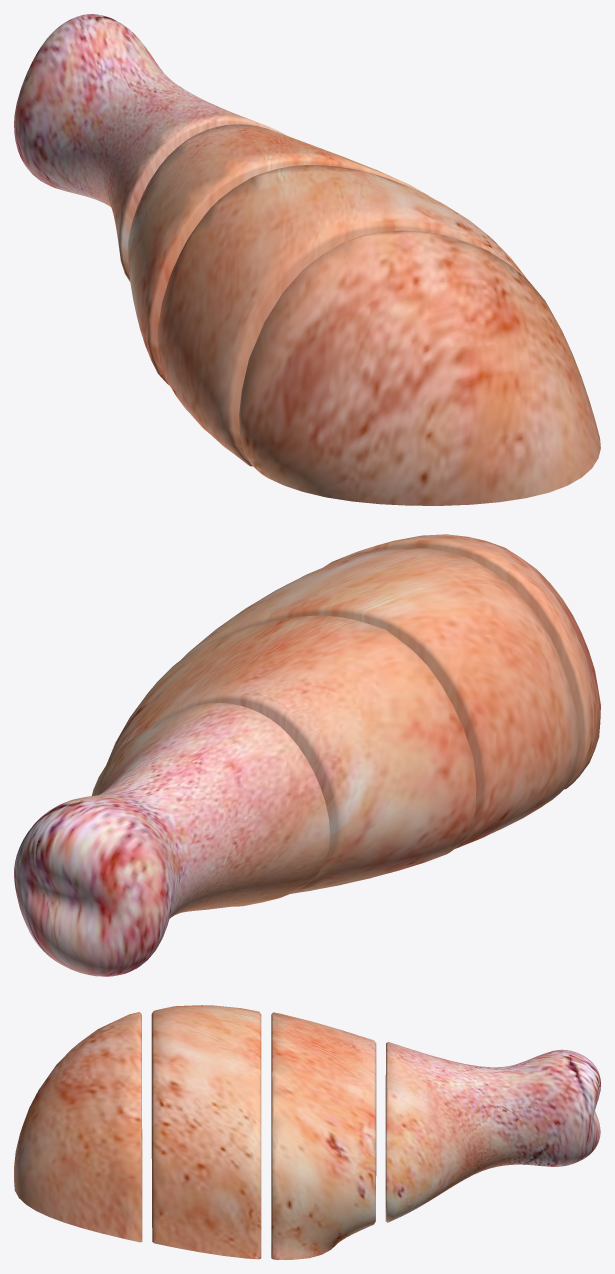
File: Chiken_slice.FBX
3 views of the same model, one above another, from view 1: azimuth 30°, elevation 25°; view 2: azimuth 150°, elevation 25°; view 3: azimuth 270°, elevation 25° (orthographic). The views are drawn at different scales.
Visible parts, largest first — view 1: Chicken_slice; view 2: Chicken_slice; view 3: Chicken_slice.
Boxes of the visible parts, <box> form: Chicken_slice: <box>14,14,600,505</box>; Chicken_slice: <box>14,534,600,976</box>; Chicken_slice: <box>14,1005,600,1259</box>.
Bounding box in the file's own units: 71.54 × 51.92 × 154.
